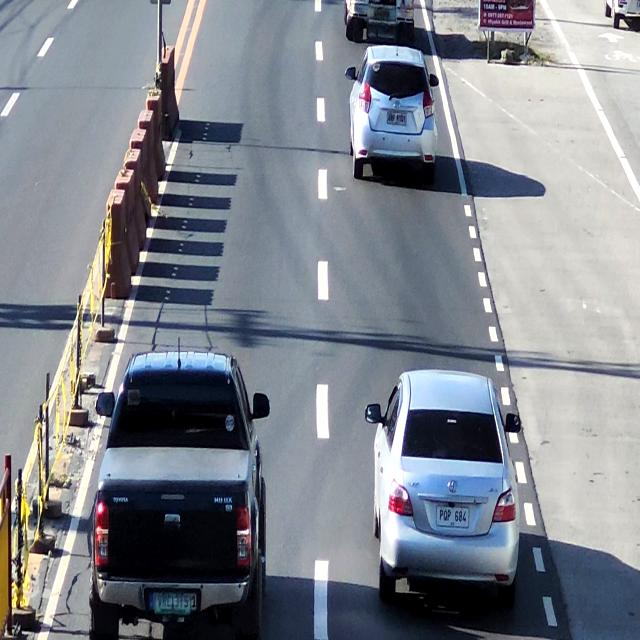Car: (94, 350, 266, 635), (373, 371, 518, 617), (340, 44, 444, 188), (344, 0, 413, 39)
License-Plate: (152, 582, 194, 622), (433, 502, 470, 535), (384, 109, 409, 126)
